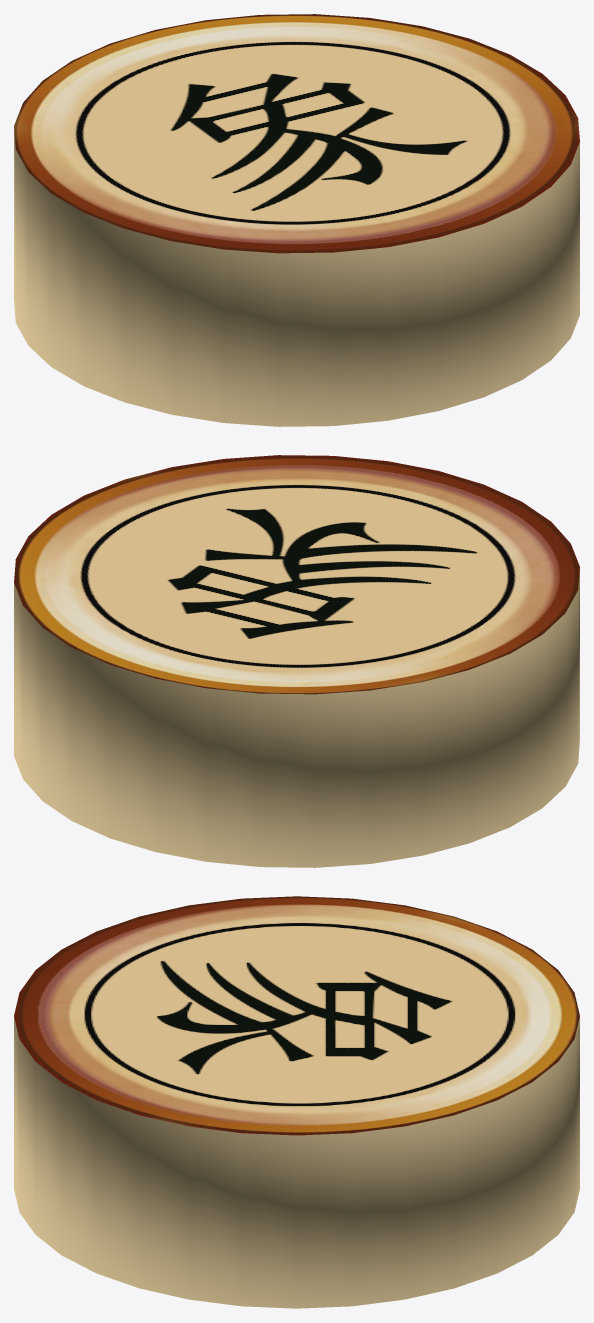
Rendered from tinh_den.fbx.
3 renders of one model, top to bottom at view 1: azimuth 30°, elevation 25°; view 2: azimuth 150°, elevation 25°; view 3: azimuth 270°, elevation 25°, orthographic.
Visible parts, largest first — view 1: Cylinder.008; view 2: Cylinder.008; view 3: Cylinder.008.
Part boxes in pixels (<box>): Cylinder.008: <box>14,14,579,426</box>; Cylinder.008: <box>14,455,579,867</box>; Cylinder.008: <box>14,896,579,1308</box>.
Bounding box in the file's own units: 200 × 67.52 × 200.
